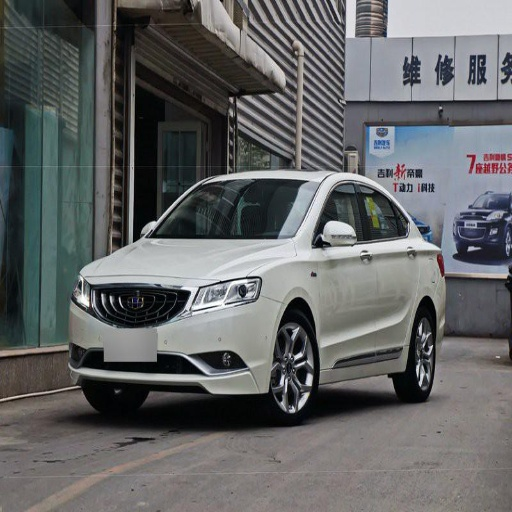back_left_door: (356, 180, 415, 354)
front_bumper: (68, 277, 281, 394)
front_glass: (146, 179, 319, 238)
front_left_door: (311, 178, 377, 360)
